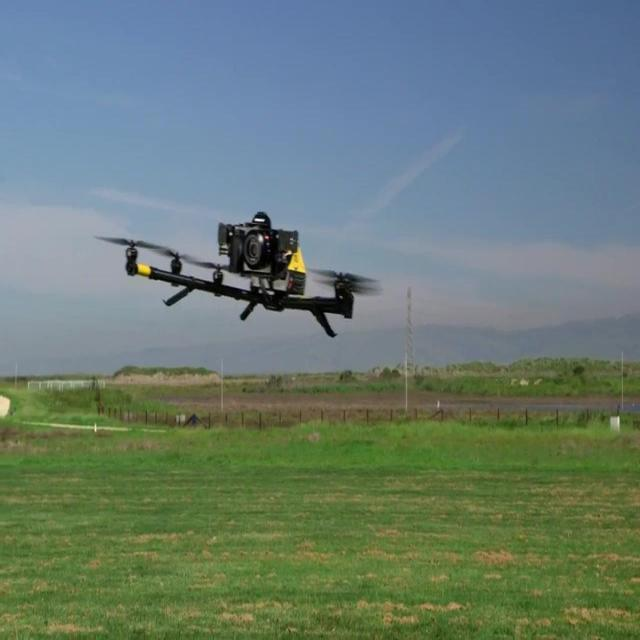drone: (94, 210, 382, 340)
